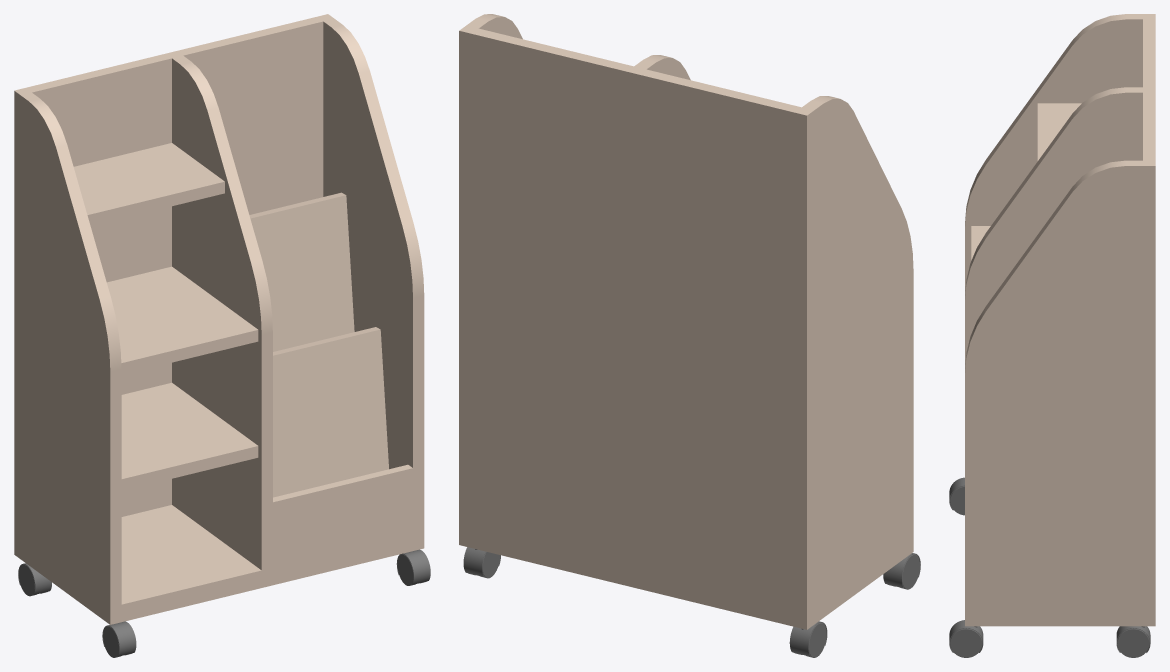
Rendered from 616_ディスプレイラック.glb.
3 views of the same model, side by side, from view 1: azimuth 30°, elevation 25°; view 2: azimuth 150°, elevation 25°; view 3: azimuth 270°, elevation 25° (orthographic). The views are drawn at different scales.
Visible parts, largest first — view 1: Body; view 2: Body; view 3: Body.
Part boxes in pixels (<box>): Body: <box>14,14,430,657</box>; Body: <box>459,14,920,657</box>; Body: <box>949,14,1155,657</box>.
Size of the model in its own units: 0.56 by 0.8468 by 0.3214.
